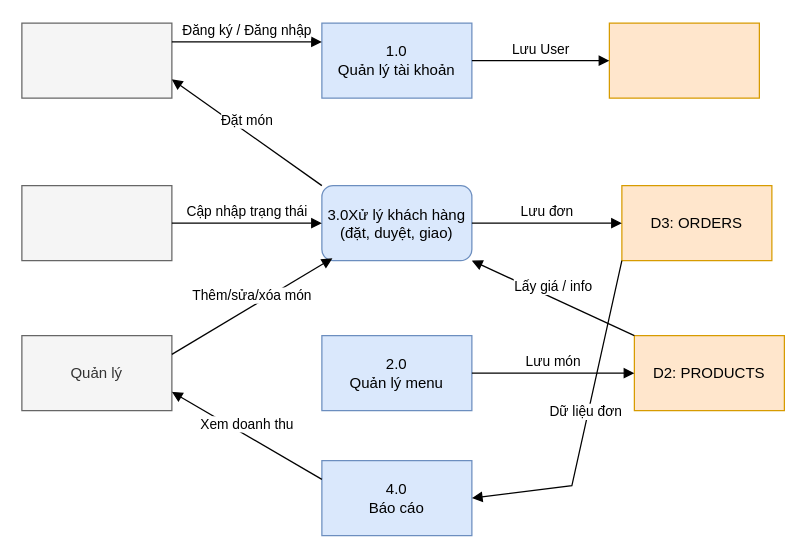
This 806x558 diagram has some shape labels left out. The centre of each missing label's shape, as x and y in pixels:
D1: USERS: point 683,60
Khách hàng: point 96,60
Nhân viên: point 96,222
